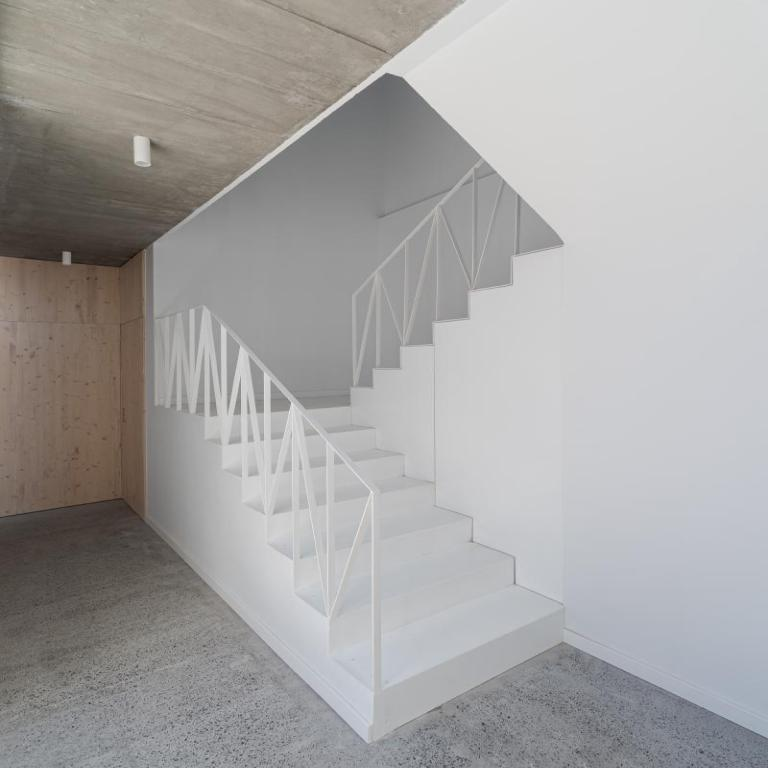white-walls: (409, 23, 754, 694)
